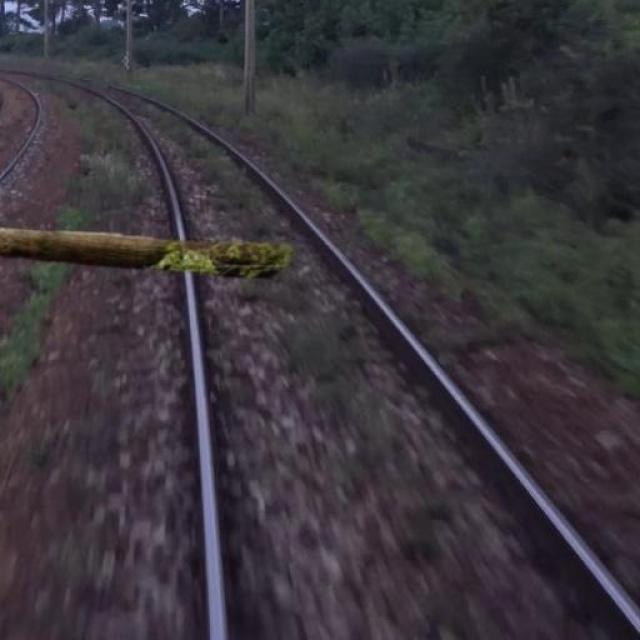Branches: (0, 214, 296, 284)
